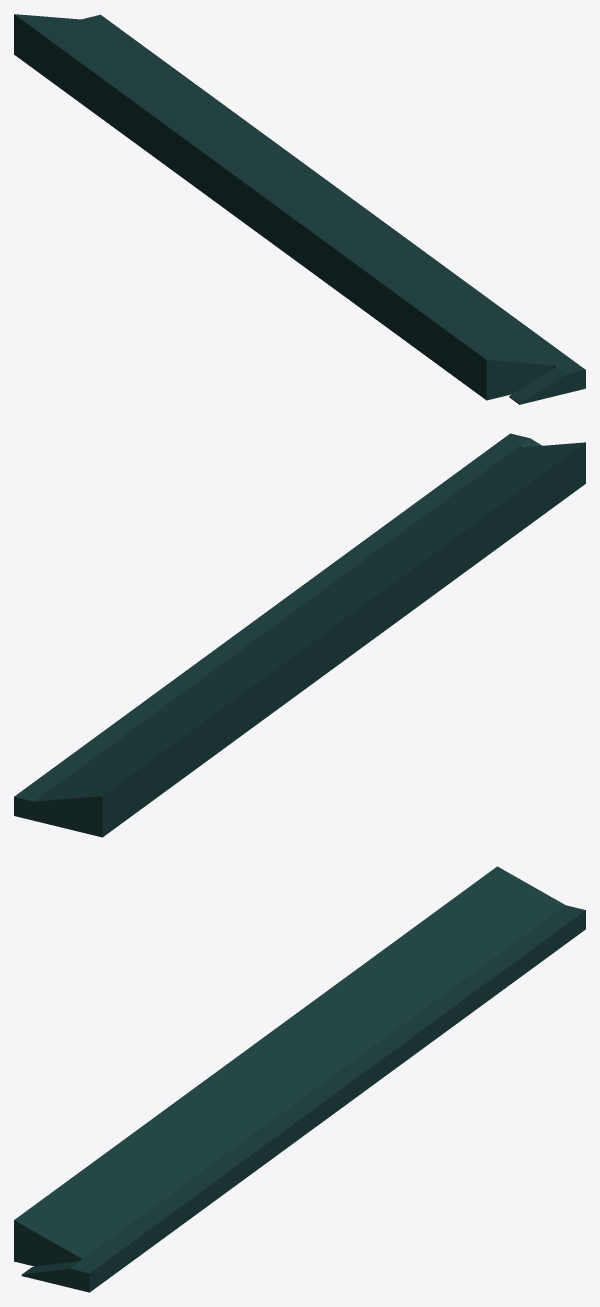
Rendered from Stands_Large_TEMP.fbx.
The picture shows the model from 3 angles, top to bottom: view 1: azimuth 30°, elevation 25°; view 2: azimuth 150°, elevation 25°; view 3: azimuth 330°, elevation 25°; orthographic projection. The views are drawn at different scales.
Parts seen in each view (by area): view 1: Stands_Big; view 2: Stands_Big; view 3: Stands_Big.
Boxes of the visible parts, bbox=[...] form: Stands_Big: bbox=[14, 14, 585, 404]; Stands_Big: bbox=[14, 433, 585, 837]; Stands_Big: bbox=[14, 866, 585, 1292].
Size of the model in its own units: 601 by 268 by 5828.
